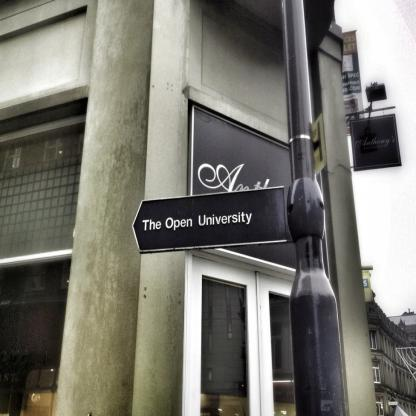door: (194, 260, 256, 415)
